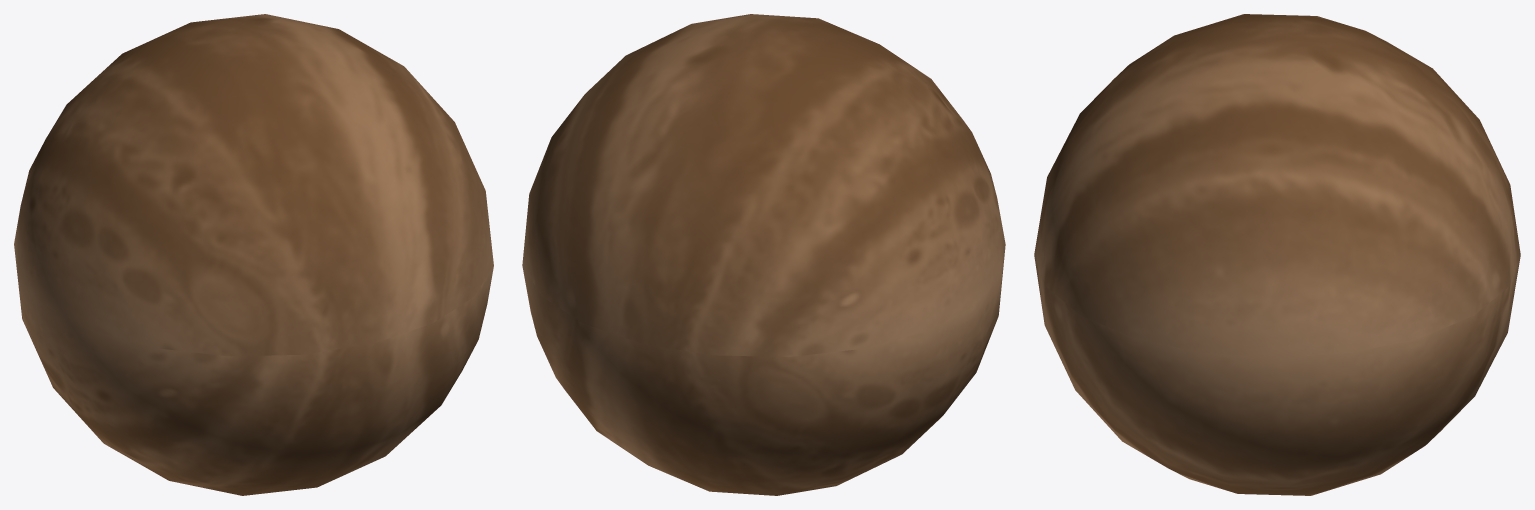
Rendered from PlanetObstacle_2.fbx.
The picture shows the model from 3 angles, left to right: view 1: azimuth 30°, elevation 25°; view 2: azimuth 150°, elevation 25°; view 3: azimuth 270°, elevation 25°; orthographic projection.
Visible parts, largest first — view 1: Icosphere.005; view 2: Icosphere.005; view 3: Icosphere.005.
Part boxes in pixels (bbox=[...]): Icosphere.005: bbox=[14, 14, 493, 495]; Icosphere.005: bbox=[522, 14, 1005, 495]; Icosphere.005: bbox=[1034, 14, 1520, 495].
Bounding box in the file's own units: 118 × 118 × 118.
